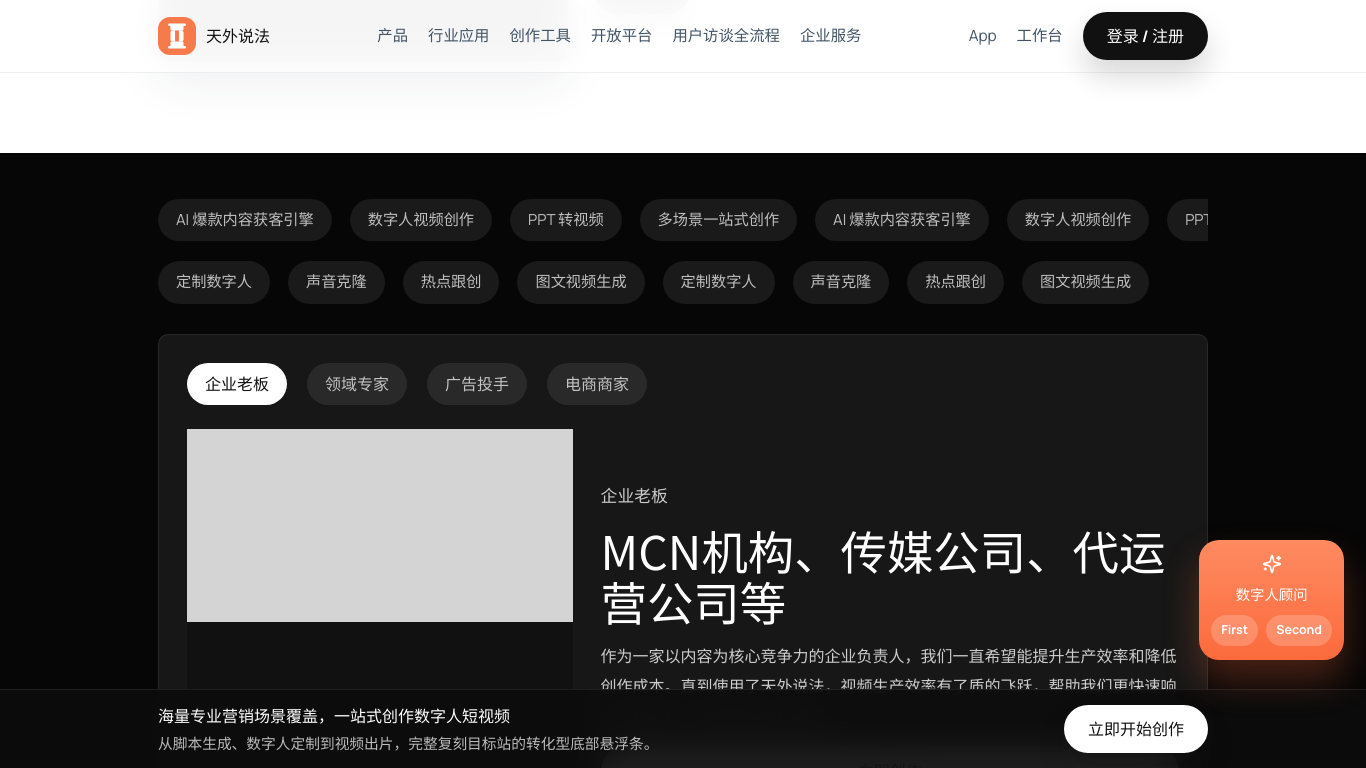
Test: ThirdPage › 支持切换案例角色
(page scrolled)
Check: the heading "MCN机构、传媒公司、代运营公司等" is shown, box [601,524,1179,626]
Click the button "广告投手": (477,384) [427,363,527,405]
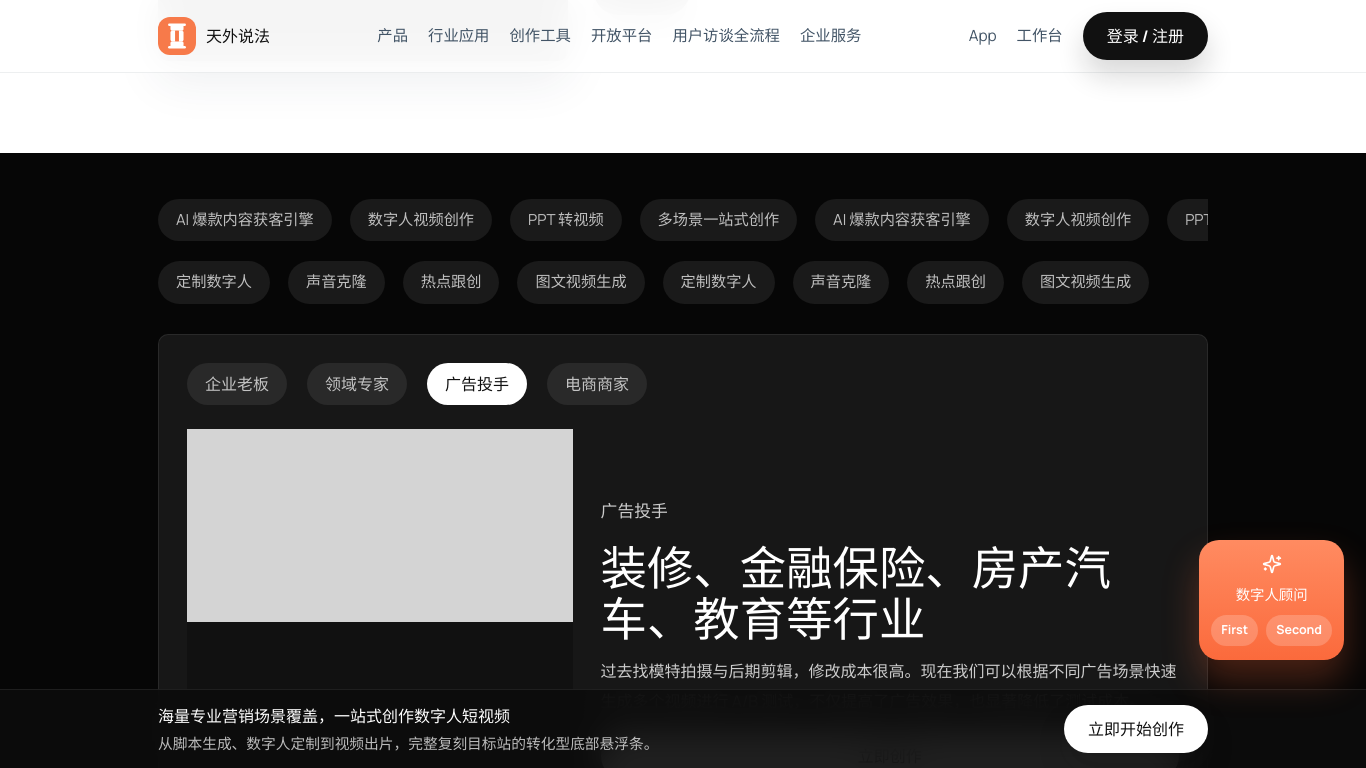
Check: the heading "装修、金融保险、房产汽车、教育等行业" is shown, box [601,539,1179,641]
